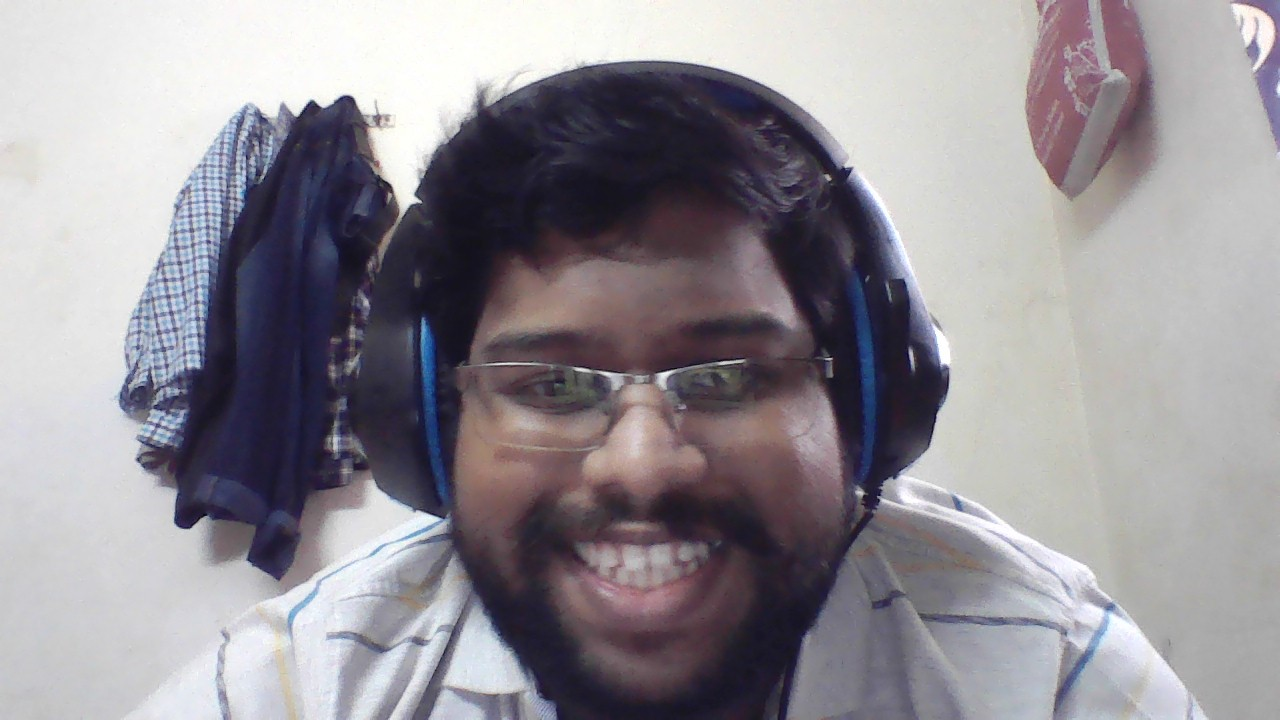NoMask: (442, 395, 857, 630)
